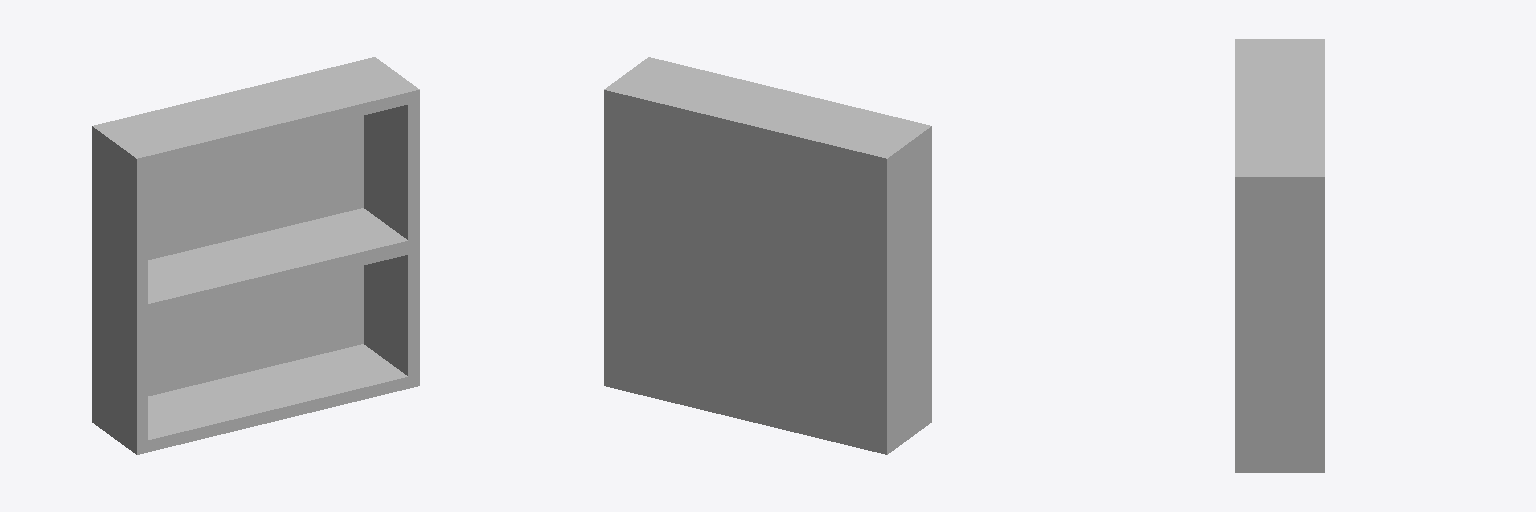
Rendered from sc1_bookshelf-simple.obj.
The picture shows the model from 3 angles: view 1: azimuth 30°, elevation 25°; view 2: azimuth 150°, elevation 25°; view 3: azimuth 270°, elevation 25°; orthographic projection.
Visible parts, largest first — view 1: Cube.001; view 2: Cube.001; view 3: Cube.001.
Part boxes in pixels (x1,y1,x2,y2): Cube.001: (92,57,419,454); Cube.001: (604,57,931,454); Cube.001: (1235,39,1324,472).
Bounding box in the file's own units: 7.29 × 7.29 × 2.